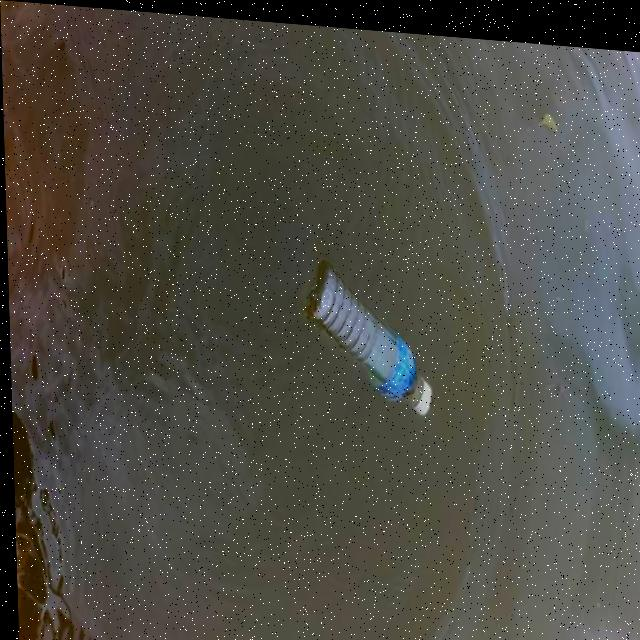waterbottle: (282, 240, 449, 411)
